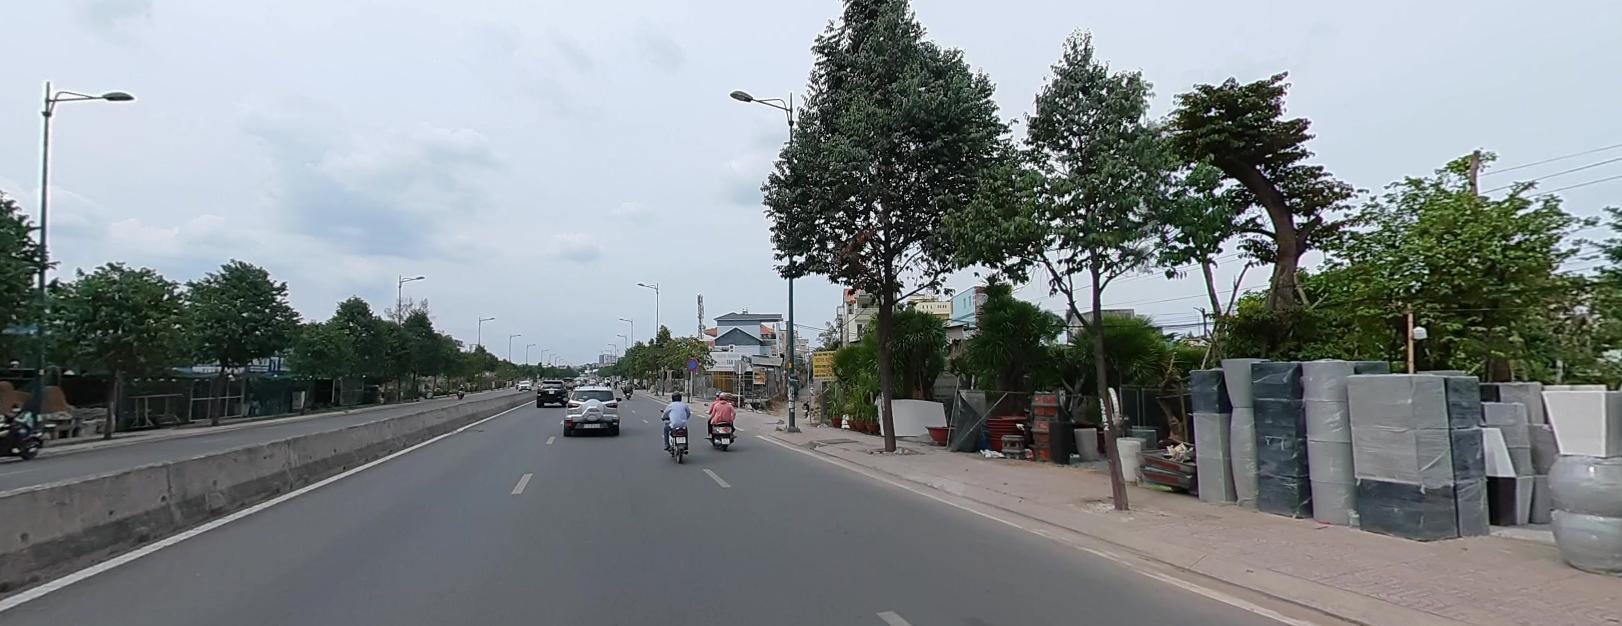Cam dung va do: (686, 356, 698, 369)
